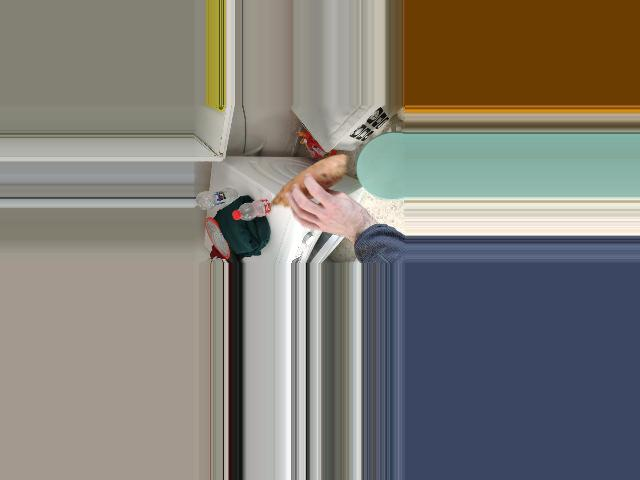sweet_potato: (274, 155, 336, 216)
